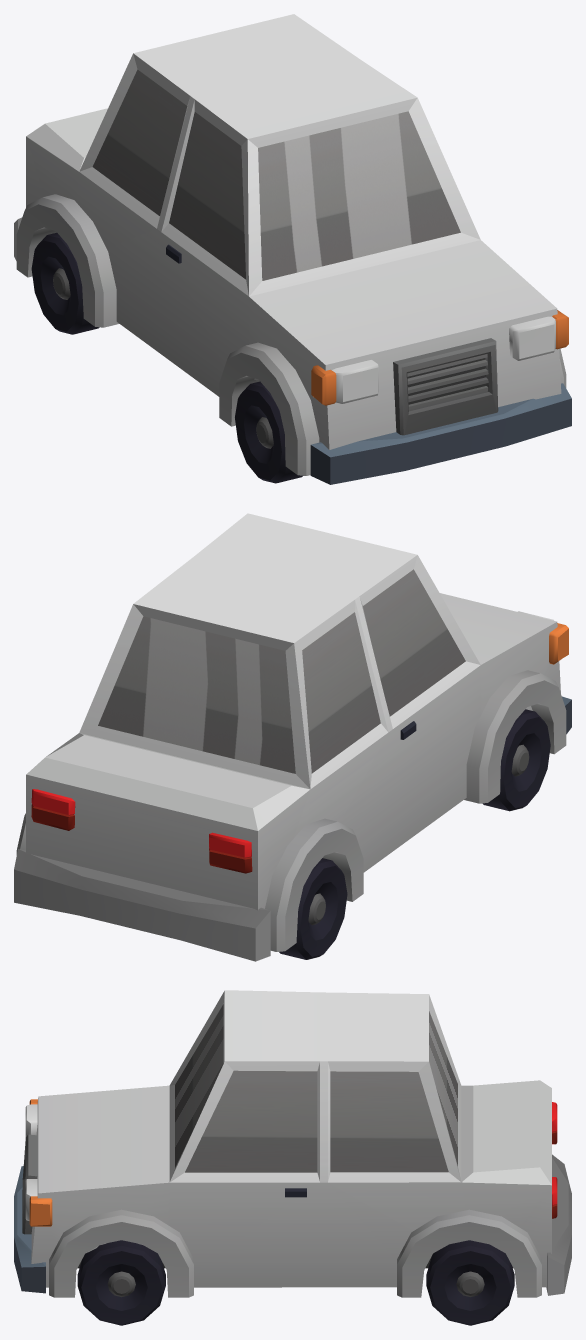
File: Car_2_9.glb
3 renders of one model, top to bottom at view 1: azimuth 30°, elevation 25°; view 2: azimuth 150°, elevation 25°; view 3: azimuth 270°, elevation 25°, orthographic. The views are drawn at different scales.
Parts seen in each view (by area): view 1: Car_2_9, W_BR, W_FR; view 2: Car_2_9, W_FR, W_BR; view 3: Car_2_9, W_BL, W_FL.
Part boxes in pixels (x1,y1,x2,y2): Car_2_9: (14,14,571,484); W_BR: (31,232,99,334); W_FR: (235,381,302,483); Car_2_9: (14,513,571,961); W_FR: (482,709,550,811); W_BR: (279,858,347,959); Car_2_9: (14,990,571,1297); W_BL: (426,1240,514,1325); W_FL: (77,1240,165,1325).
Bounding box in the file's own units: 1.09 × 1.11 × 2.28.
5 materials, 5 textured.
